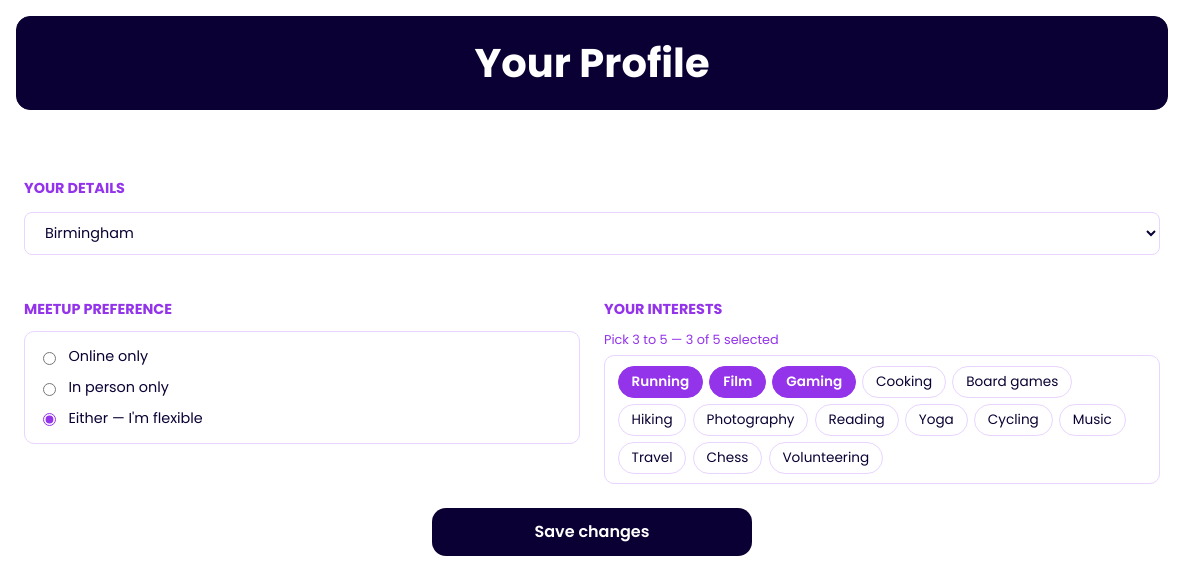
Test: Profile component › can select an interest
Step 1. Click the button "Cooking" → (904, 382), box [862,366,946,398]
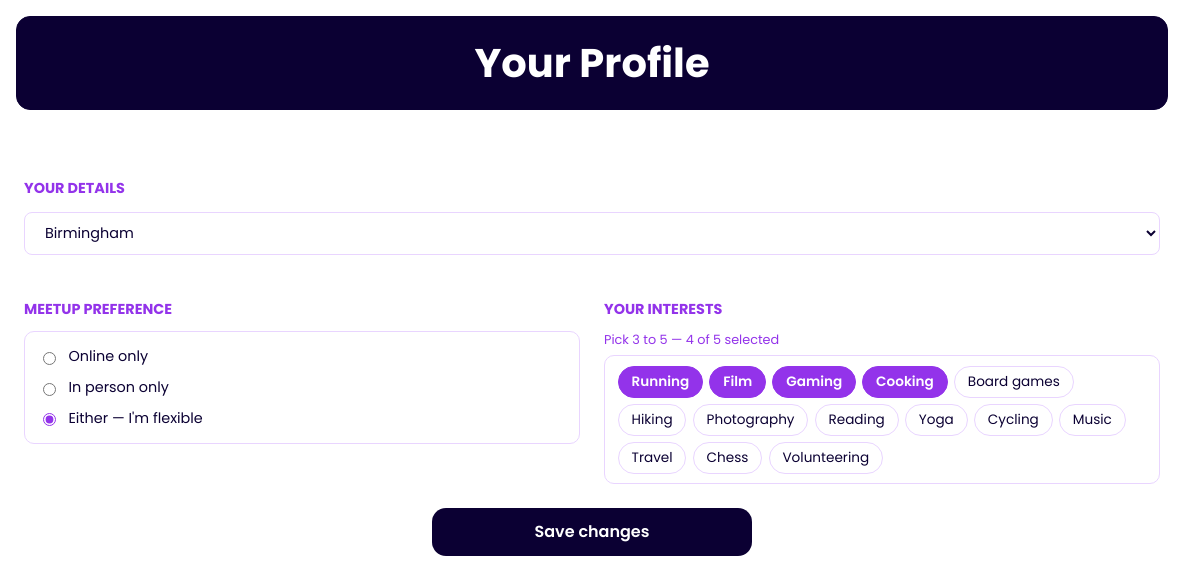
Check: the text "Pick 3 to 5 — 4 of 5 selected" is shown, box [604,331,779,348]
